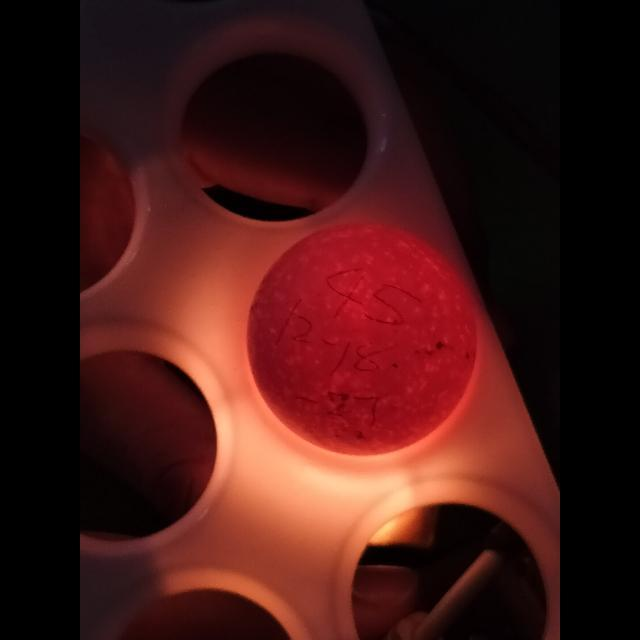Infertile: (242, 224, 476, 456)
